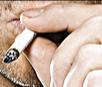Cigarette: (3, 28, 34, 63)
